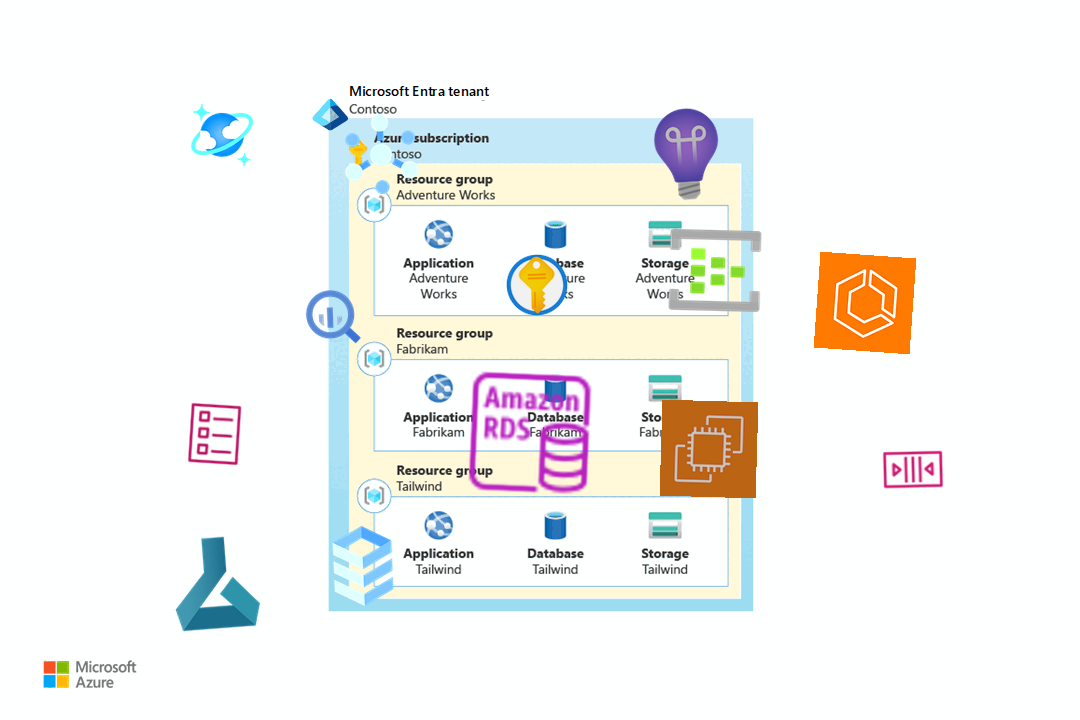aws_amazon_ec2: (659, 399, 759, 499)
aws_amazon_elastic_container_service: (813, 251, 917, 355)
aws_aurora_amazon_rds_instance: (463, 366, 597, 500)
aws_cloudformation_template: (180, 400, 248, 468)
aws_simple_queue_service_queue: (880, 436, 946, 502)
azure_application_insights: (636, 103, 738, 205)
azure_cosmos_db: (188, 101, 256, 169)
azure_event_hubs: (665, 220, 765, 320)
azure_key_vaults: (504, 252, 570, 318)
azure_machine_learning: (164, 531, 268, 635)
gcp_bigquery: (299, 283, 367, 351)
gcp_cloud_sql: (312, 515, 414, 617)
gcp_pubsub: (330, 103, 432, 205)
